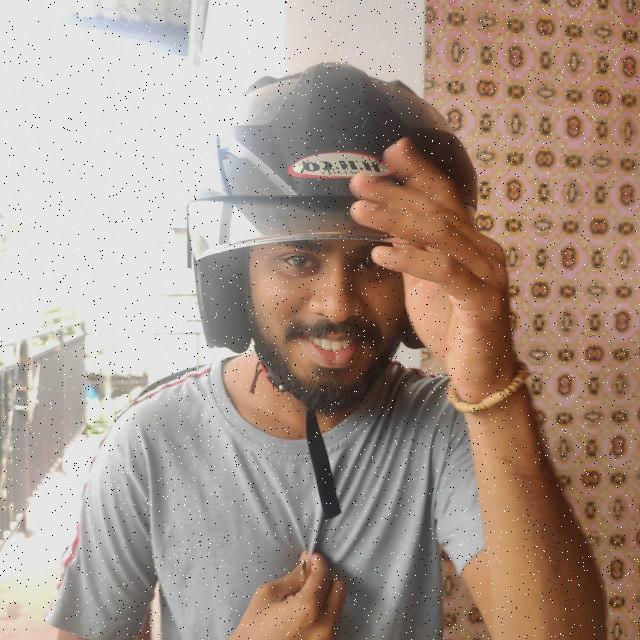helmet: (188, 58, 478, 520)
